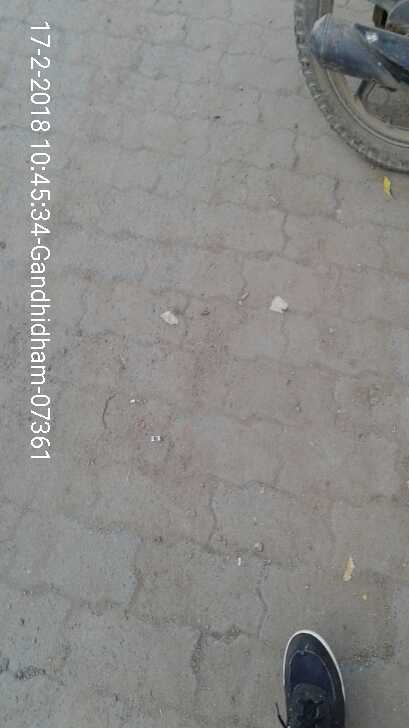reject: (185, 397, 241, 454)
